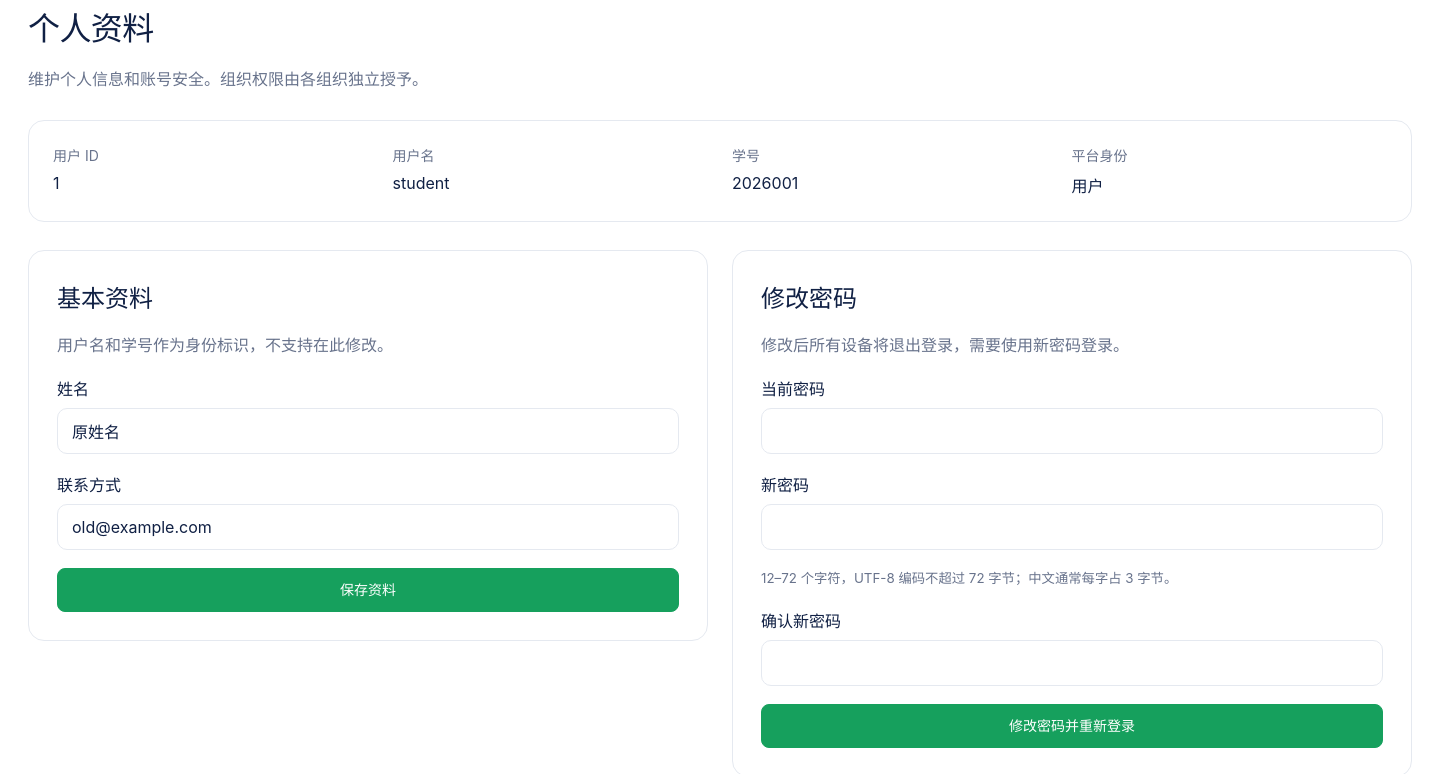
Scenario: keeps the session on wrong current password and clears sensitive form values
The width and height of the screenshot is (1440, 774).
Type "old-password-123" into the password field named "currentPassword" at coordinates (1072, 431), box 761,408 -> 1383,454
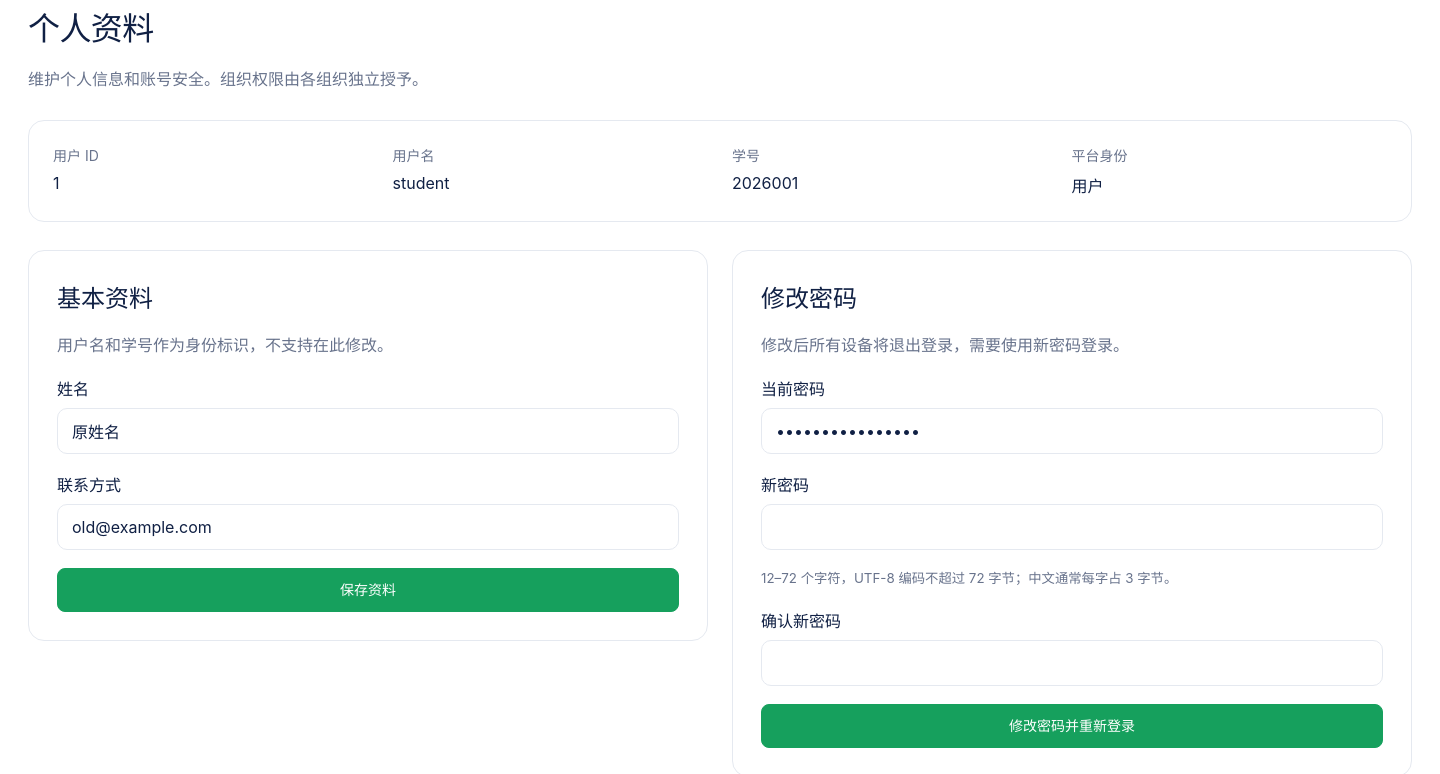
Type "new-password-123" into the password field named "newPassword" at coordinates (1072, 527), box 761,504 -> 1383,550
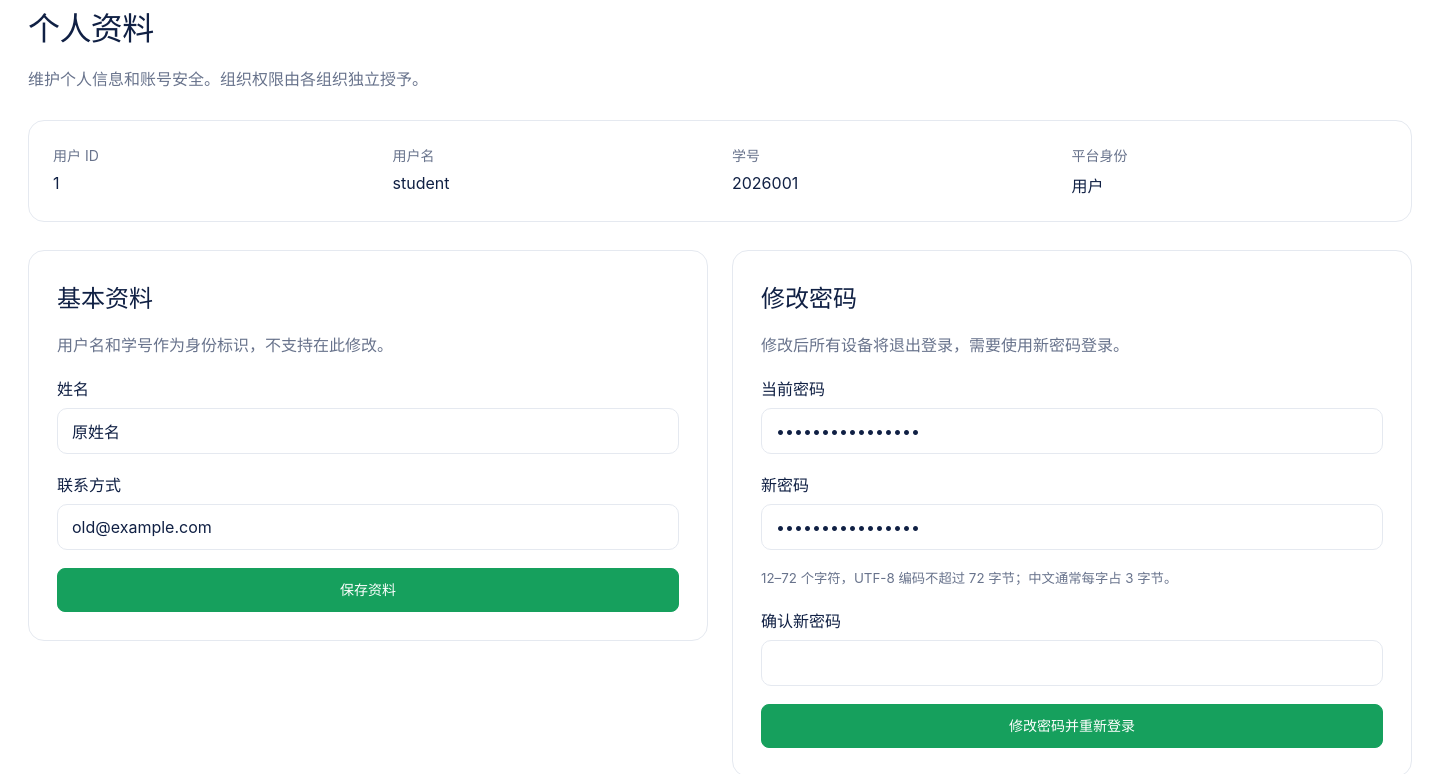
Type "new-password-123" into the password field named "confirmPassword" at coordinates (1072, 663), box 761,640 -> 1383,686
(page scrolled)
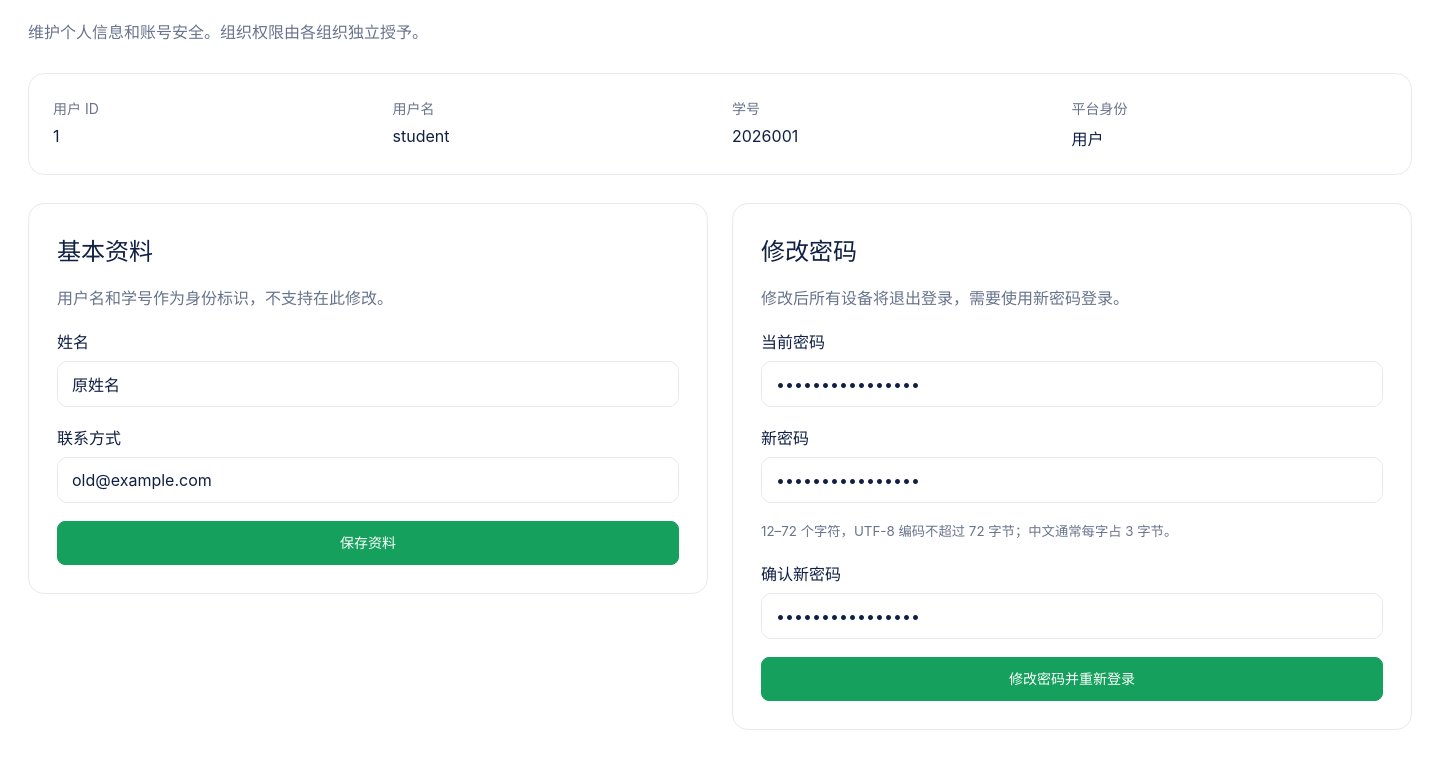
Submit the form with test id "password-form", box 732,203 -> 1412,730
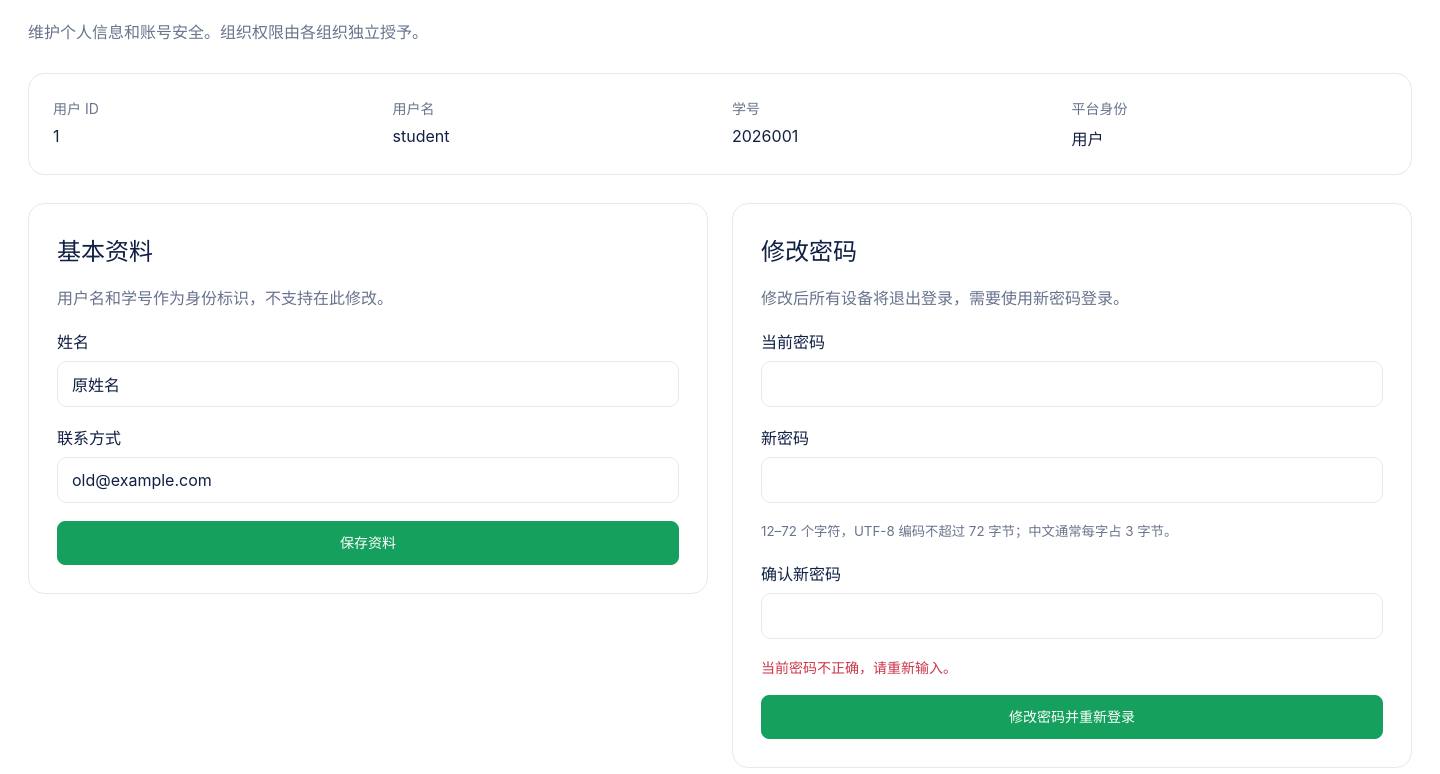
expect the text "当前密码不正确" is shown: met, box 761,659 -> 957,676
expect the password field named "currentPassword" is empty: met, box 761,361 -> 1383,407
